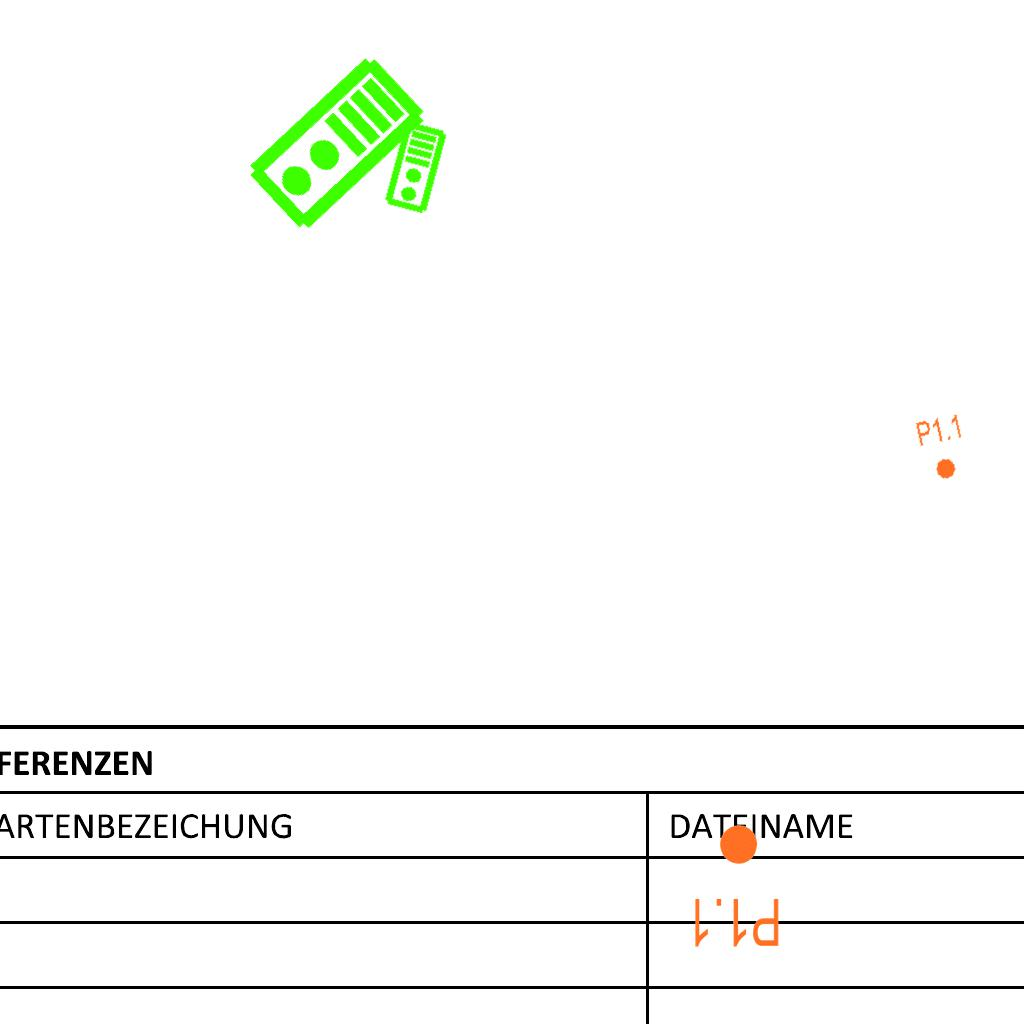Downlight_LED_Einbauleuchten_Flur: (689, 822, 782, 950), (913, 411, 973, 485)
Gegensprechanlage_mit_Video: (240, 50, 435, 240), (382, 119, 451, 217)
